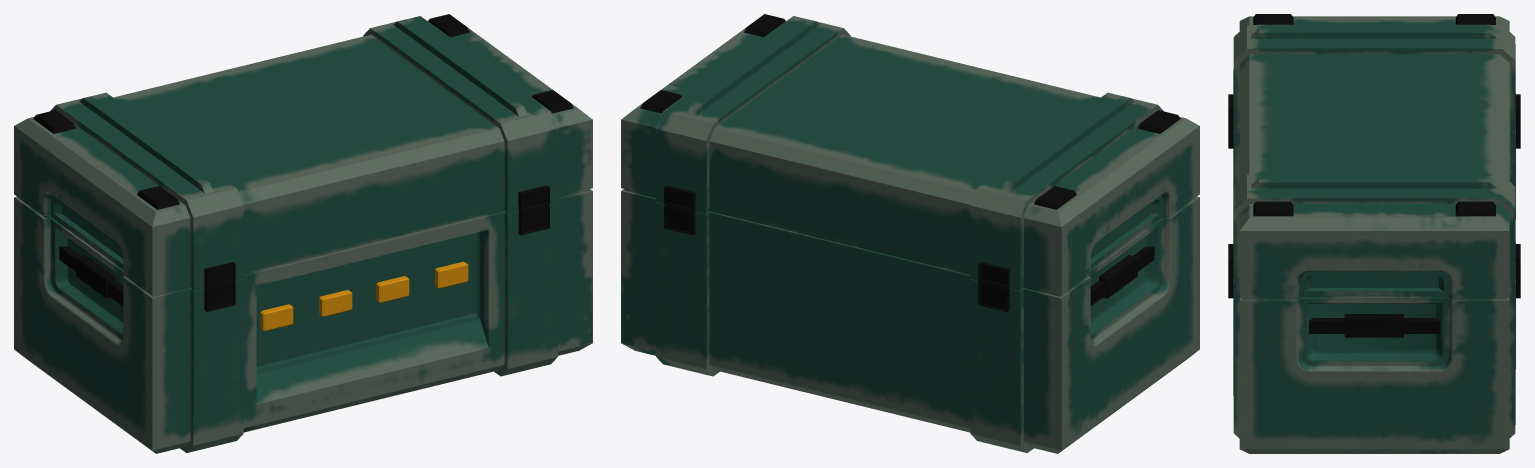
Rendered from Chest.fbx.
3 renders of one model, left to right at view 1: azimuth 30°, elevation 25°; view 2: azimuth 150°, elevation 25°; view 3: azimuth 270°, elevation 25°, orthographic. The views are drawn at different scales.
Parts seen in each view (by area): view 1: Chest; view 2: Chest; view 3: Chest.
Part boxes in pixels (x1,y1,x2,y2): Chest: [14, 14, 592, 453]; Chest: [621, 14, 1199, 453]; Chest: [1228, 14, 1520, 453].
Bounding box in the file's own units: 65.57 × 36.93 × 38.61.
